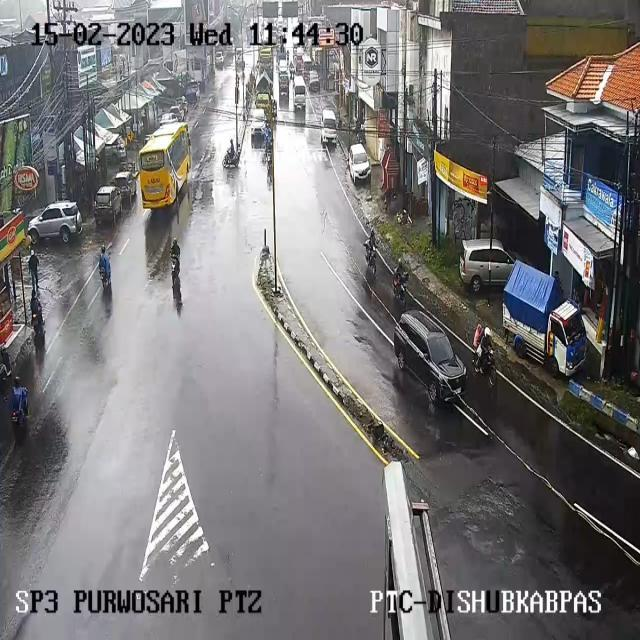Bus: (141, 124, 199, 212), (292, 77, 306, 108)
Car: (394, 310, 464, 406), (459, 238, 515, 292), (28, 200, 82, 243), (93, 186, 123, 225), (348, 143, 370, 183), (112, 170, 138, 203), (320, 108, 338, 143), (250, 111, 268, 144), (105, 138, 126, 162), (184, 82, 199, 104), (160, 112, 180, 127), (307, 70, 320, 92), (278, 68, 290, 91), (176, 96, 188, 118), (168, 106, 184, 122), (302, 54, 312, 74), (276, 24, 286, 43), (235, 54, 245, 72), (278, 59, 288, 76), (214, 51, 224, 68), (248, 71, 256, 91), (295, 56, 304, 72), (277, 47, 286, 61), (295, 46, 304, 59), (288, 61, 295, 76), (279, 38, 286, 52)
Motorbike: (472, 327, 496, 380), (10, 378, 29, 426), (97, 245, 111, 292), (393, 260, 409, 300), (30, 292, 43, 326), (364, 227, 377, 261), (170, 238, 181, 271), (1, 348, 12, 380), (228, 140, 235, 161)
Truck: (508, 269, 592, 373), (255, 74, 272, 114), (258, 46, 274, 68)
